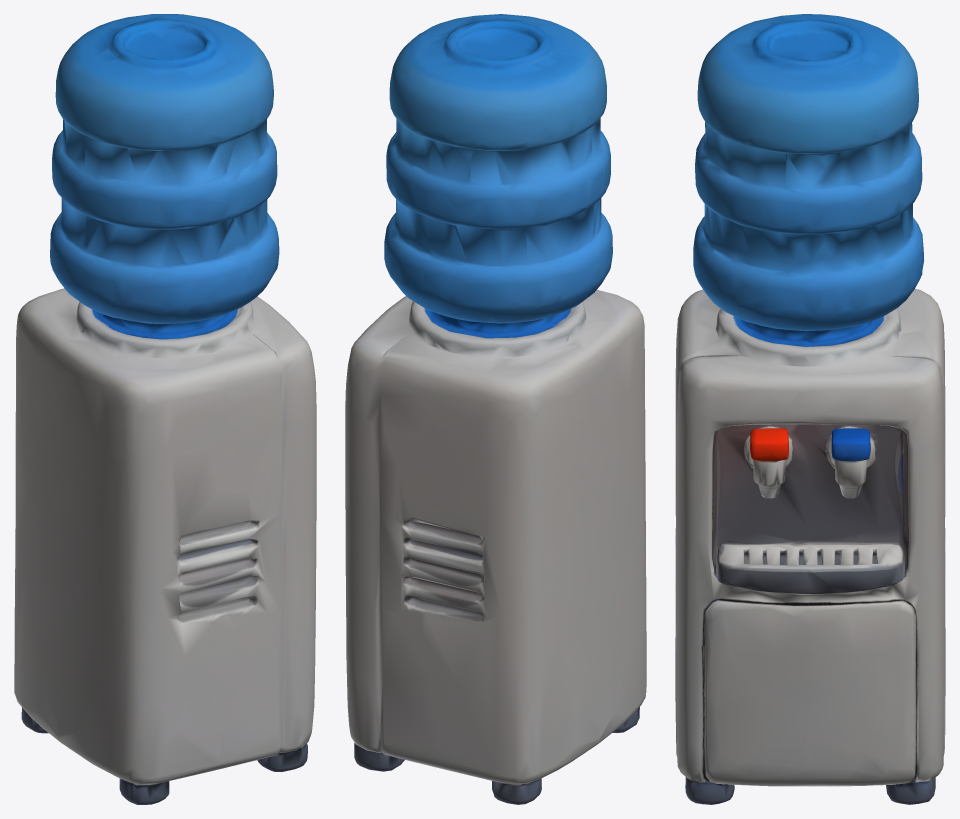
Rendered from water_cooler.glb.
3 views of the same model, side by side, from view 1: azimuth 30°, elevation 25°; view 2: azimuth 150°, elevation 25°; view 3: azimuth 270°, elevation 25° (orthographic). The views are drawn at different scales.
Parts seen in each view (by area): view 1: tripo_node_3f05716a-2d50-4d4c-8765-ddb3ccbb1be4; view 2: tripo_node_3f05716a-2d50-4d4c-8765-ddb3ccbb1be4; view 3: tripo_node_3f05716a-2d50-4d4c-8765-ddb3ccbb1be4.
Part boxes in pixels (box(x1,y1,x2,y2)): tripo_node_3f05716a-2d50-4d4c-8765-ddb3ccbb1be4: box(14, 14, 316, 804); tripo_node_3f05716a-2d50-4d4c-8765-ddb3ccbb1be4: box(345, 14, 646, 804); tripo_node_3f05716a-2d50-4d4c-8765-ddb3ccbb1be4: box(675, 14, 945, 804).
Bounding box in the file's own units: 0.3212 × 0.9999 × 0.3385.
1 material, 1 textured.
